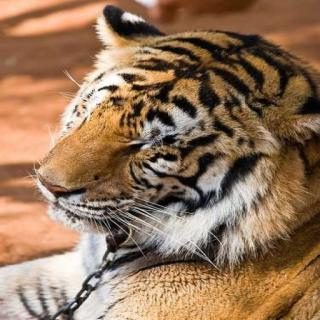Tiger: (18, 0, 316, 316)
